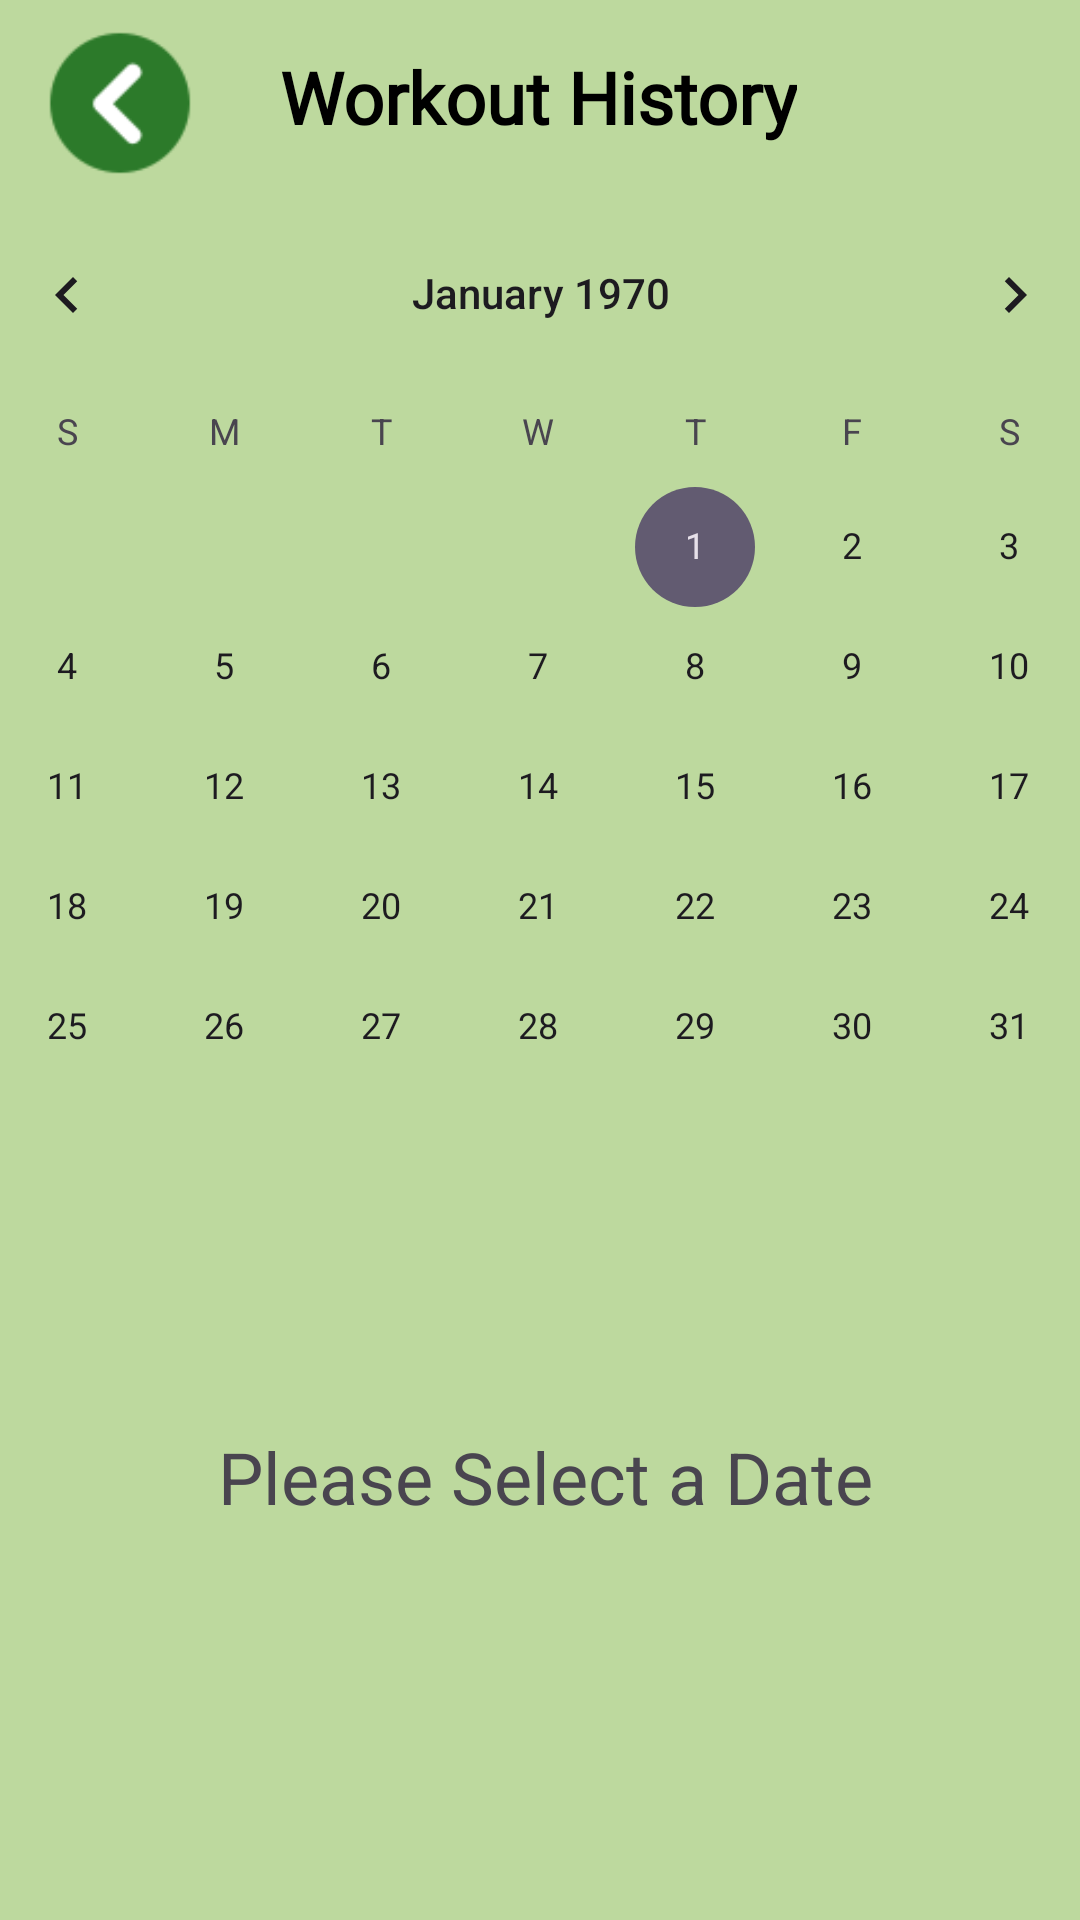

Icons on this 1080 × 1920 Android screen, each with the point to tap as [x,y]:
back: [120,102]
